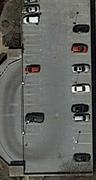parkingspot: (69, 0, 94, 173), (20, 0, 44, 146)
